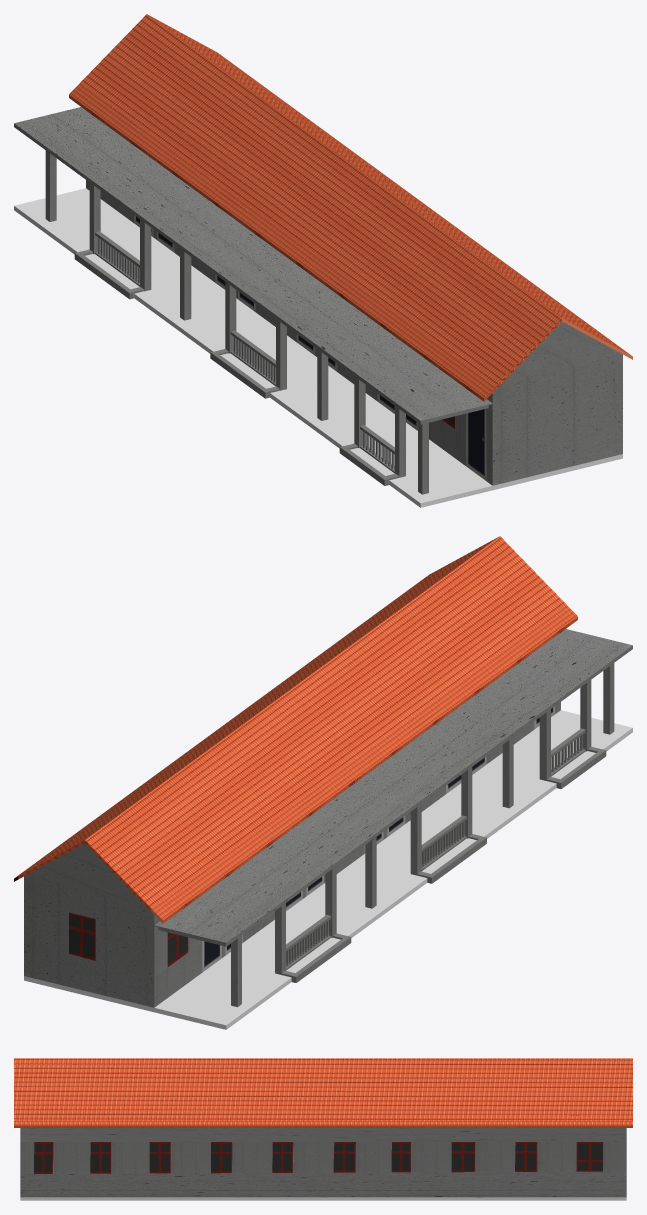
The model's file is nha1.fbx.
The picture shows the model from 3 angles, top to bottom: view 1: azimuth 30°, elevation 25°; view 2: azimuth 150°, elevation 25°; view 3: azimuth 270°, elevation 25°; orthographic projection. The views are drawn at different scales.
Visible parts, largest first — view 1: Cube.015, Cube.001; view 2: Cube.015, Cube.001; view 3: Cube.015, Cube.001.
Boxes of the visible parts, x1,y1,x2,y2 form: Cube.015: [14, 107, 622, 507]; Cube.001: [69, 14, 632, 401]; Cube.015: [24, 629, 632, 1029]; Cube.001: [14, 536, 577, 923]; Cube.015: [20, 1128, 626, 1200]; Cube.001: [14, 1058, 632, 1127].
Bounding box in the file's own units: 2234 × 1603 × 7558.
Materials: 5 (4 with a texture image).
